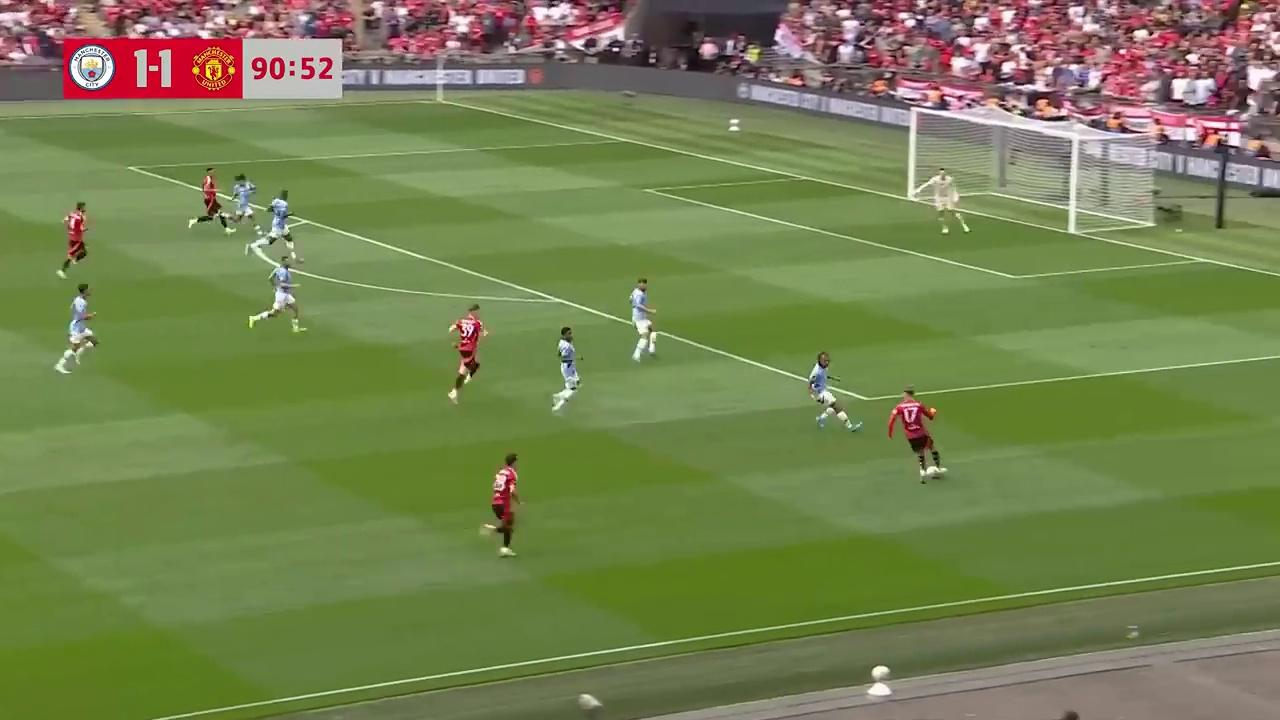ball: (926, 461, 943, 483)
player: (887, 387, 948, 482), (480, 453, 523, 559), (446, 303, 491, 404), (249, 256, 305, 333), (54, 284, 98, 374), (808, 352, 858, 431), (922, 168, 970, 235), (189, 166, 234, 235), (551, 325, 582, 414), (57, 202, 92, 278), (628, 278, 658, 362), (260, 189, 296, 257), (229, 173, 257, 230)
